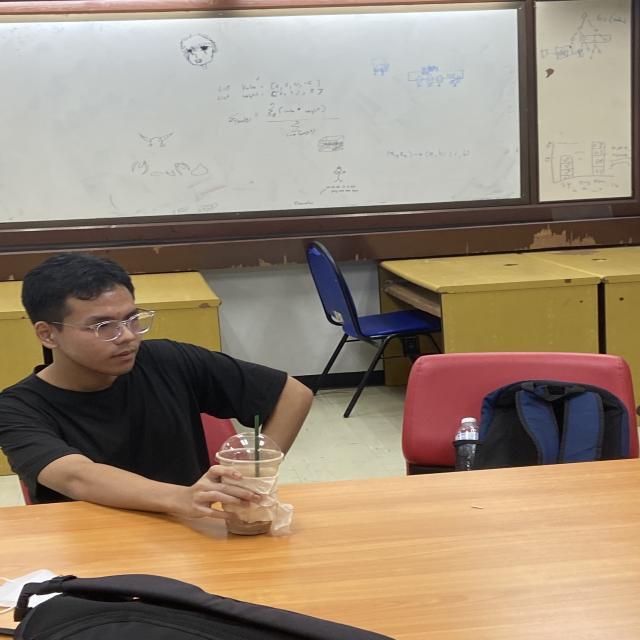cup: (214, 432, 285, 536)
